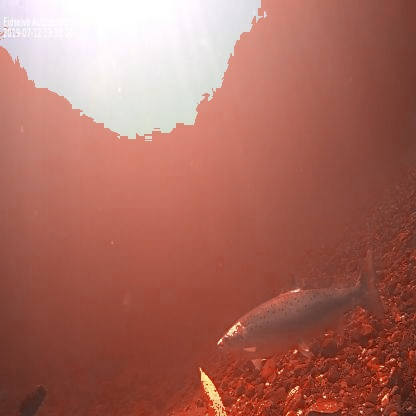salmon: (217, 247, 386, 373)
